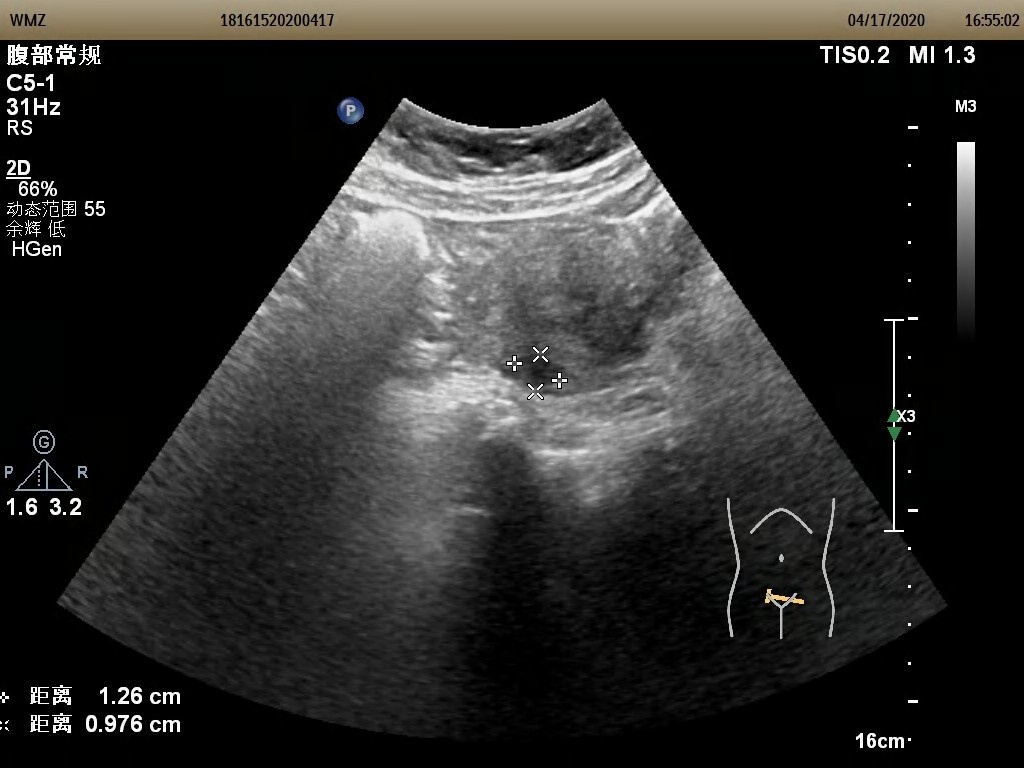肌瘤: (516, 354, 563, 391)
